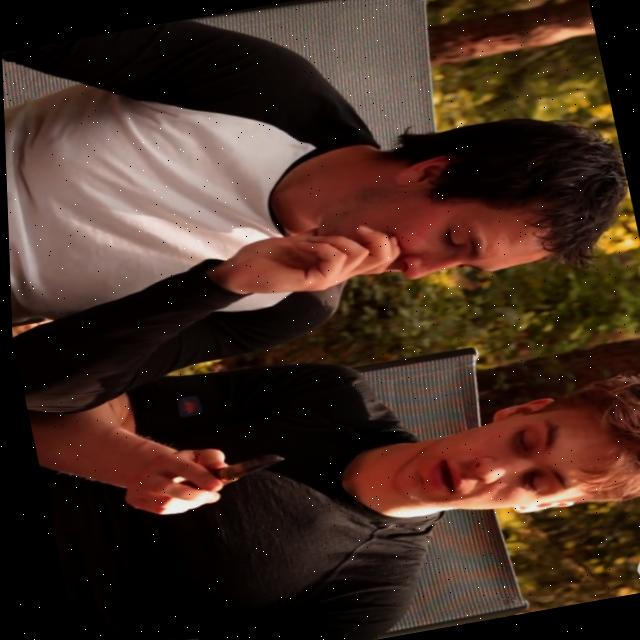knife: (203, 450, 286, 487)
